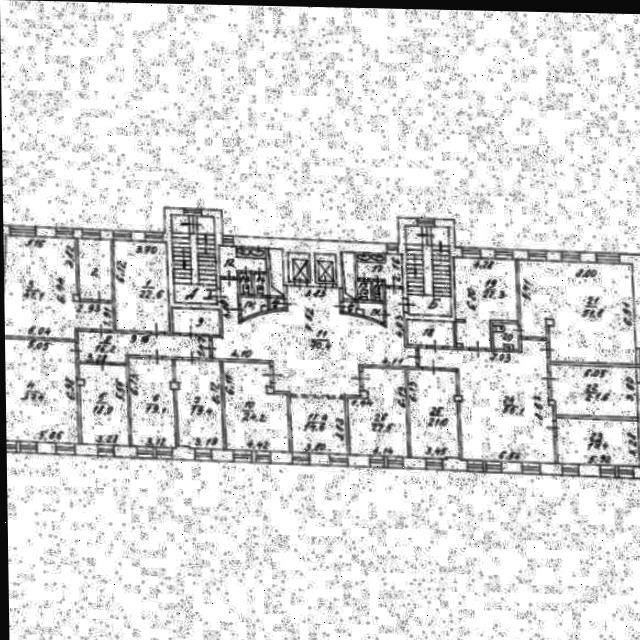room: (208, 279, 419, 402), (416, 337, 555, 474), (514, 260, 637, 364), (1, 237, 115, 342), (4, 338, 76, 448), (221, 360, 287, 455), (452, 256, 517, 349), (345, 367, 405, 460), (113, 240, 167, 335), (547, 365, 638, 417), (75, 333, 209, 368), (173, 360, 222, 452), (407, 368, 455, 460), (77, 364, 127, 449), (170, 214, 216, 306), (127, 358, 173, 450), (405, 225, 449, 317), (553, 418, 638, 465), (287, 398, 347, 454), (77, 239, 110, 303), (217, 246, 266, 279), (354, 254, 402, 287), (170, 308, 219, 336), (405, 320, 453, 347), (491, 322, 517, 351), (339, 252, 354, 301), (267, 249, 282, 297), (287, 253, 308, 283), (239, 297, 266, 320), (314, 254, 334, 284), (357, 303, 383, 323), (235, 247, 264, 259), (252, 275, 265, 296), (238, 274, 250, 296), (357, 281, 369, 301), (371, 282, 381, 301), (269, 299, 283, 310), (342, 303, 354, 314)
